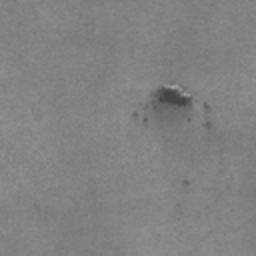Iron sheet ash: (145, 86, 193, 123), (204, 121, 212, 129)
